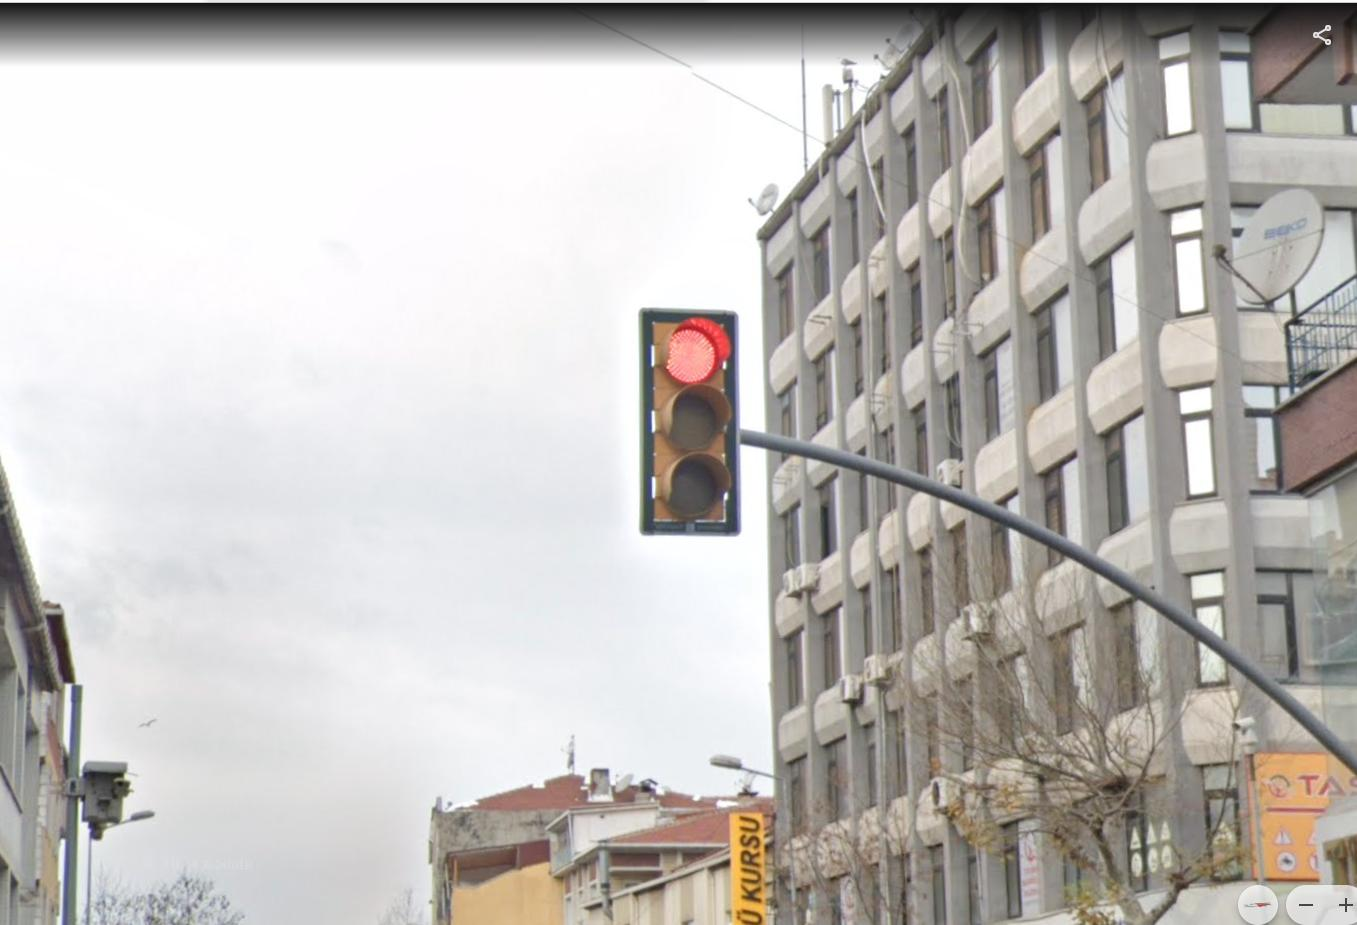redlight: (651, 313, 733, 522)
